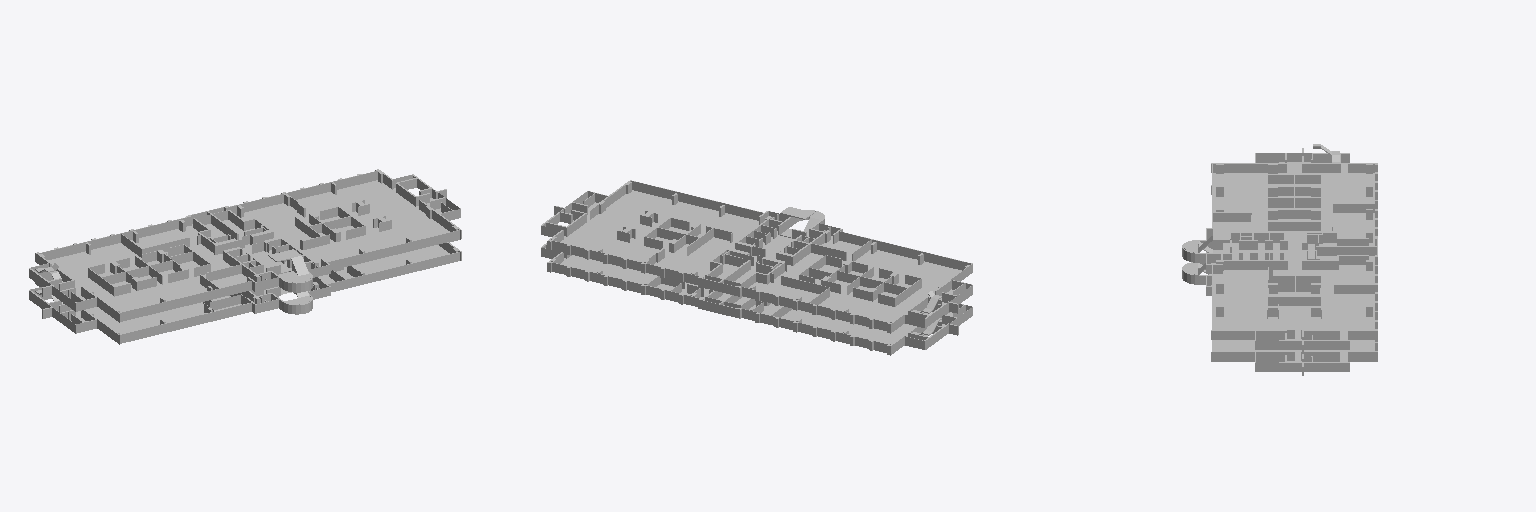
The model's file is decimo_quarto_versao_01.obj.
The picture shows the model from 3 angles: view 1: azimuth 30°, elevation 25°; view 2: azimuth 150°, elevation 25°; view 3: azimuth 270°, elevation 25°; orthographic projection.
Bounding box in the file's own units: 64.28 × 6.66 × 27.01.